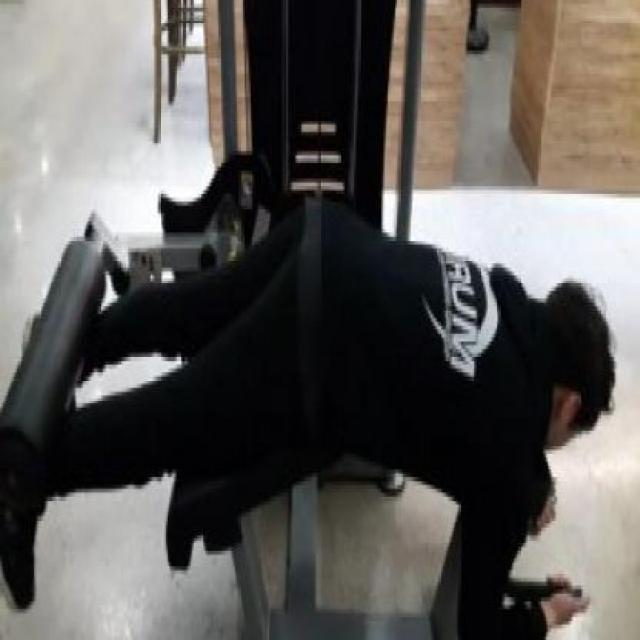reg curl machine: (3, 187, 618, 640)
